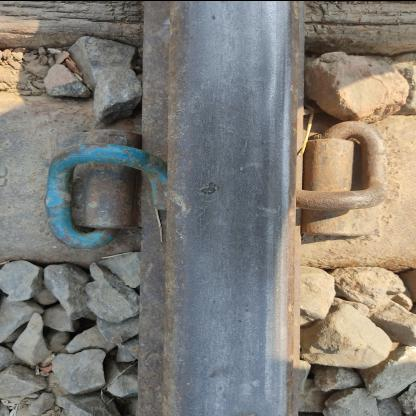Non Defective 1: (27, 114, 186, 270), (268, 94, 415, 251)
